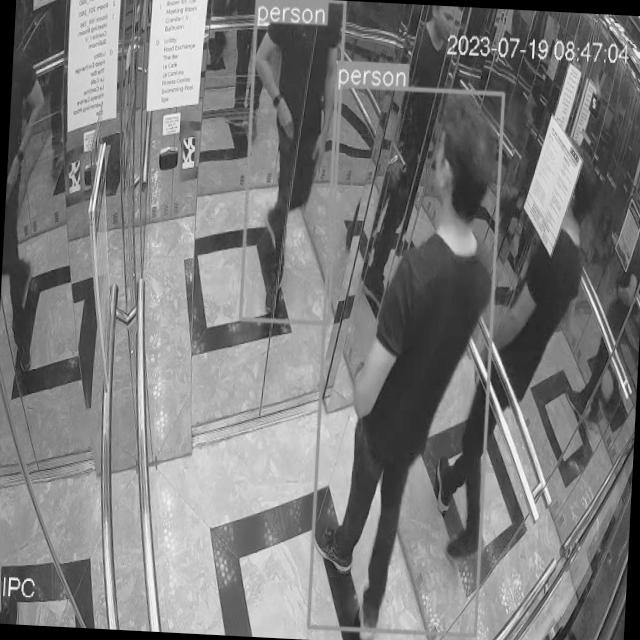person: (316, 90, 499, 629), (244, 4, 343, 320)
